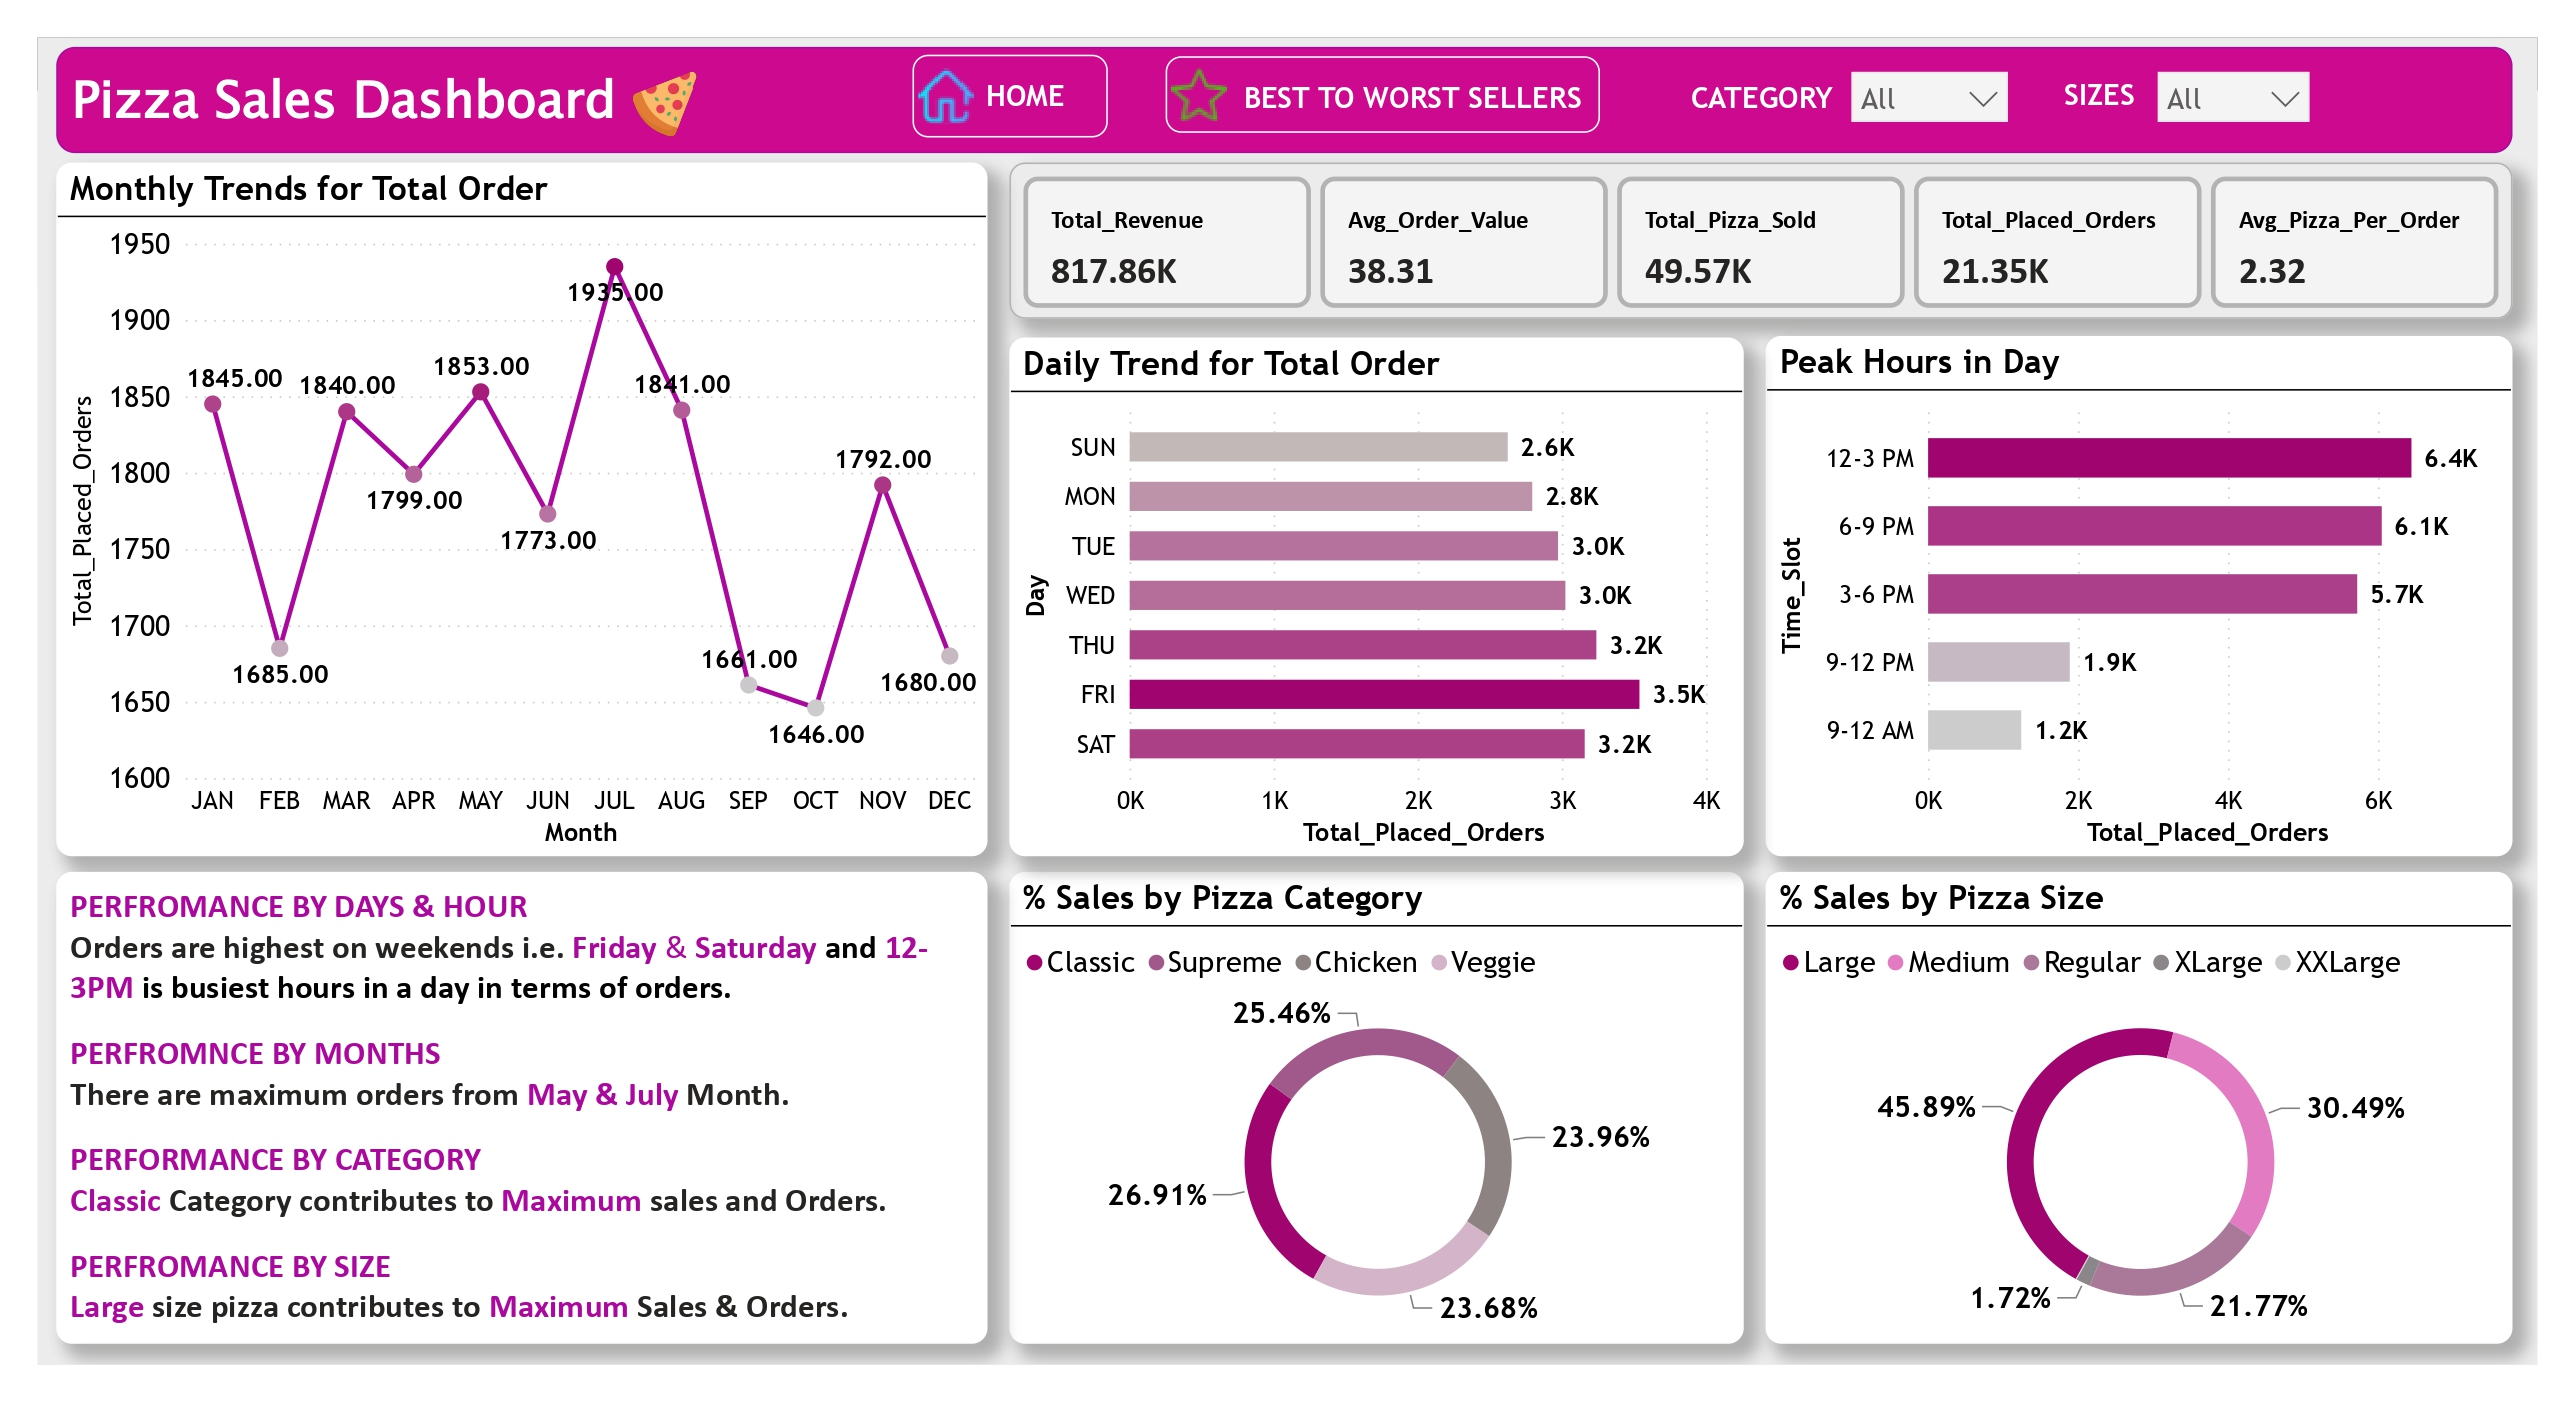

The dashboard page shown, as its layout file describes it:
{"tool":"powerbi","page":{"name":"HOME","canvas":[1600,850],"ordinal":0},"visuals":[{"type":"textbox","box":[12,6,1572,68],"z":0},{"type":"actionButton","box":[721.7,11.7,278.1,49.2],"z":0,"group":"g3"},{"type":"textbox","box":[760.9,21.7,237.5,32.5],"z":1000,"group":"g3"},{"type":"lineChart","title":"Monthly Trends for Total Order","fields":{"Category":["pizza_sales.Month"],"Y":["pizza_sales.Total_Placed_Orders"]},"box":[12,80,596,444],"z":1000},{"type":"cardVisual","fields":{"Data":["pizza_sales.Total_Revenue","pizza_sales.Avg_Order_Value","pizza_sales.Total_Pizza_Sold","pizza_sales.Total_Placed_Orders","pizza_sales.Avg_Pizza_Per_Order"]},"box":[622,80,962,100],"z":2000},{"type":"clusteredBarChart","title":"Peak Hours in Day","fields":{"Category":["pizza_sales.Time_Slot"],"Y":["pizza_sales.Total_Placed_Orders"]},"box":[1105.7,191.4,478.6,332.9],"z":3000},{"type":"donutChart","title":"% Sales by Pizza Category","fields":{"Y":["pizza_sales.Total_Revenue"],"Category":["pizza_sales.pizza_category"]},"box":[622,534,470,302],"z":4000},{"type":"donutChart","title":"% Sales by Pizza Size","fields":{"Y":["pizza_sales.Total_Revenue"],"Category":["pizza_sales.pizza_size"]},"box":[1106,534,478,302],"z":5000},{"type":"clusteredBarChart","title":"Daily Trend for Total Order","fields":{"Category":["pizza_sales.Day"],"Y":["pizza_sales.Total_Placed_Orders"]},"box":[622,192,470,332],"z":6000},{"type":"textbox","box":[12,534,596,302],"z":7000},{"type":"image","box":[375,15,53.3,55],"z":8000},{"type":"group","id":"g1","title":"Group 1","box":[1053.3,12.2,411.1,50.2],"z":9000},{"type":"slicer","fields":{"Values":["pizza_sales.pizza_category"]},"box":[1151.1,12.4,120,50],"z":9000,"group":"g1"},{"type":"group","id":"g2","title":"Group 2","box":[560,11,127.3,52.7],"z":10000},{"type":"slicer","fields":{"Values":["pizza_sales.pizza_size"]},"box":[1347.7,12.2,116.7,50],"z":10000,"group":"g1"},{"type":"group","id":"g3","title":"Group 2","box":[721.7,11.7,278.1,49.2],"z":11000},{"type":"textbox","box":[1053.3,22.1,112,32],"z":11000,"group":"g1"},{"type":"textbox","box":[1292.2,20,68.9,34.4],"z":12000,"group":"g1"},{"type":"textbox","box":[602.1,20.7,85,35],"z":12000,"group":"g2"},{"type":"actionButton","box":[560,11,124.5,52.7],"z":12500,"group":"g2"}]}

Visuals, with their boxes on the page's 1600x850 design canvas (x1, y1, x2, y2). These are canvas units, not pixel positions in the 2575x1402 screenshot, which may show the page scaled, cropped or inside an application window:
textbox: 12, 6, 1584, 74
actionButton: 722, 12, 1000, 61
textbox: 761, 22, 998, 54
"Monthly Trends for Total Order" lineChart: 12, 80, 608, 524
cardVisual - pizza_sales.Total_Revenue x pizza_sales.Avg_Order_Value: 622, 80, 1584, 180
"Peak Hours in Day" clusteredBarChart: 1106, 191, 1584, 524
"% Sales by Pizza Category" donutChart: 622, 534, 1092, 836
"% Sales by Pizza Size" donutChart: 1106, 534, 1584, 836
"Daily Trend for Total Order" clusteredBarChart: 622, 192, 1092, 524
textbox: 12, 534, 608, 836
image: 375, 15, 428, 70
"Group 1" group: 1053, 12, 1464, 62
slicer - pizza_sales.pizza_category: 1151, 12, 1271, 62
"Group 2" group: 560, 11, 687, 64
slicer - pizza_sales.pizza_size: 1348, 12, 1464, 62
"Group 2" group: 722, 12, 1000, 61
textbox: 1053, 22, 1165, 54
textbox: 1292, 20, 1361, 54
textbox: 602, 21, 687, 56
actionButton: 560, 11, 684, 64
